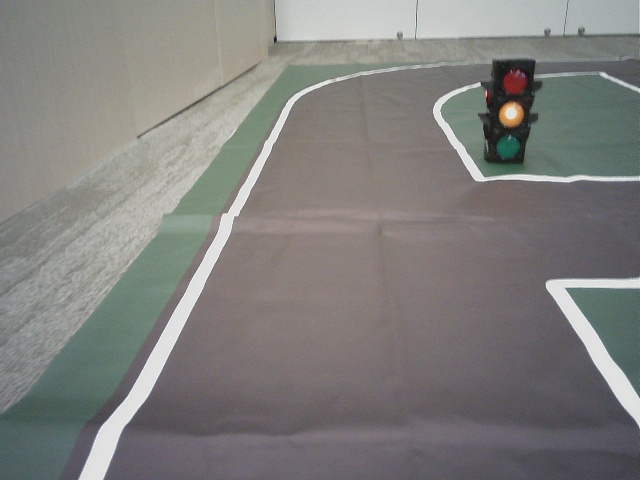yellow: (491, 67, 526, 159)
